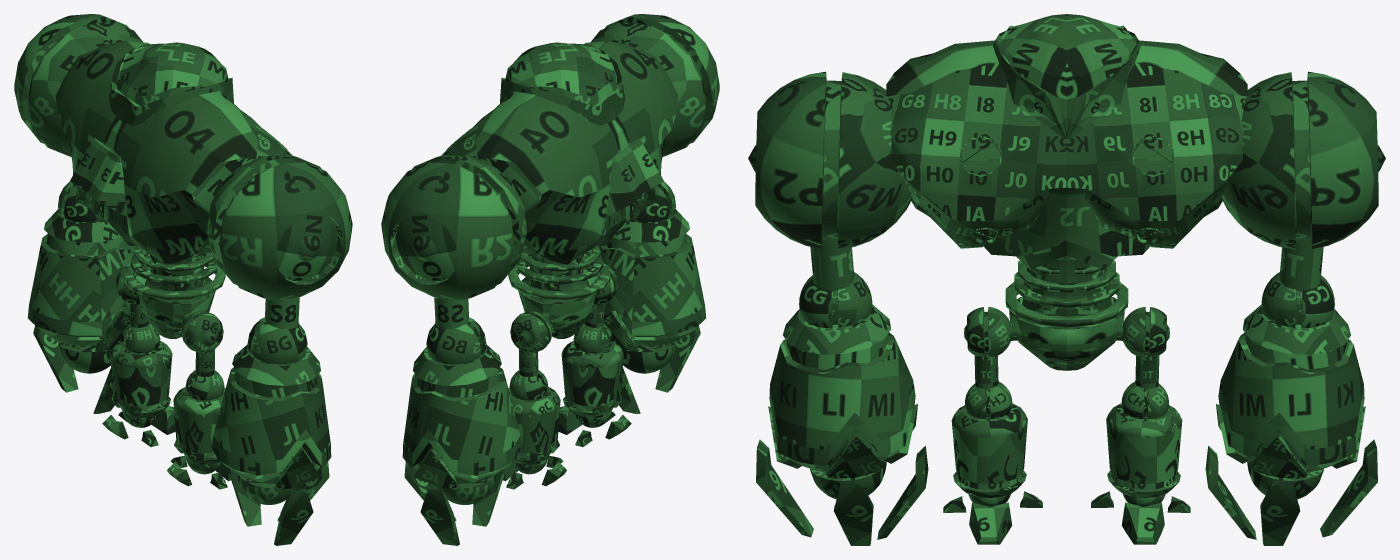
The model's file is Robot UV Full Body.fbx.
The picture shows the model from 3 angles, left to right: view 1: azimuth 30°, elevation 25°; view 2: azimuth 150°, elevation 25°; view 3: azimuth 270°, elevation 25°; orthographic projection. The views are drawn at different scales.
Visible parts, largest first — view 1: R_Forarm (×2), R_Shoulder (×2), chest_top1, head, R_Calf (×2), R_eLBOW (×2), stomach_and_hips, vent_shell, R_finger2 (×2), R_Wrist (×2), R_Hip_rotator (×2), R_Knee1 (×2) (+9 smaller); view 2: R_Forarm (×2), R_Shoulder (×2), chest_top1, head, R_Calf (×2), R_eLBOW (×2), stomach_and_hips, vent_shell, R_finger2 (×2), R_Wrist (×2), R_Hip_rotator (×2), R_Knee1 (×2) (+9 smaller); view 3: chest_top1, R_Shoulder (×2), R_Forarm (×2), head, R_Calf (×2), stomach_and_hips, R_eLBOW (×2), chest_layer_2, R_finger1 (×2), R_Hip_rotator (×2), R_finger2 (×2), R_Bicep (×2) (+8 smaller).
Boxes of the visible parts, bbox=[...] form: R_Forarm (×2): bbox=[27, 209, 331, 490]; R_Shoulder (×2): bbox=[14, 14, 352, 299]; chest_top1: bbox=[55, 41, 292, 264]; head: bbox=[108, 42, 233, 125]; R_Calf (×2): bbox=[110, 340, 225, 464]; R_eLBOW (×2): bbox=[58, 181, 307, 364]; stomach_and_hips: bbox=[135, 255, 215, 338]; vent_shell: bbox=[70, 138, 127, 216]; R_finger2 (×2): bbox=[33, 325, 313, 545]; R_Wrist (×2): bbox=[58, 341, 297, 504]; R_Hip_rotator (×2): bbox=[115, 266, 223, 352]; R_Knee1 (×2): bbox=[121, 322, 224, 400]; R_Forarm (×2): bbox=[402, 209, 706, 490]; R_Shoulder (×2): bbox=[381, 14, 719, 299]; chest_top1: bbox=[441, 41, 678, 264]; head: bbox=[500, 42, 625, 125]; R_Calf (×2): bbox=[508, 340, 623, 464]; R_eLBOW (×2): bbox=[426, 181, 675, 364]; stomach_and_hips: bbox=[518, 255, 598, 338]; vent_shell: bbox=[606, 138, 663, 216]; R_finger2 (×2): bbox=[420, 325, 700, 545]; R_Wrist (×2): bbox=[436, 341, 675, 504]; R_Hip_rotator (×2): bbox=[510, 266, 618, 352]; R_Knee1 (×2): bbox=[509, 322, 612, 400]; chest_top1: bbox=[886, 40, 1247, 248]; R_Shoulder (×2): bbox=[748, 71, 1385, 249]; R_Forarm (×2): bbox=[768, 304, 1365, 478]; head: bbox=[993, 14, 1140, 140]; R_Calf (×2): bbox=[951, 403, 1182, 497]; stomach_and_hips: bbox=[1009, 256, 1124, 370]; R_eLBOW (×2): bbox=[799, 272, 1334, 327]; chest_layer_2: bbox=[983, 187, 1150, 256]; R_finger1 (×2): bbox=[833, 480, 1300, 545]; R_Hip_rotator (×2): bbox=[964, 307, 1169, 356]; R_finger2 (×2): bbox=[756, 439, 1377, 537]; R_Bicep (×2): bbox=[810, 240, 1323, 291].
Bounding box in the file's own units: 0.6693 × 1.57 × 1.77.
2 materials, 1 textured.
